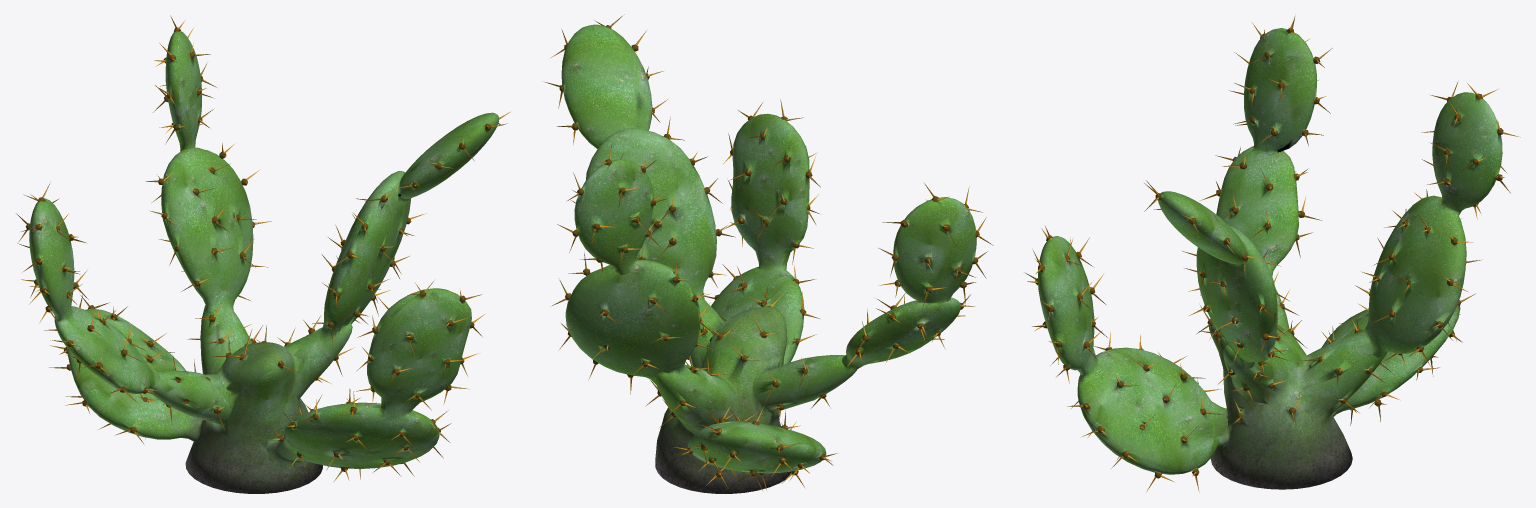
File: cactus_2_downloadable.glb
The picture shows the model from 3 angles, left to right: view 1: azimuth 30°, elevation 25°; view 2: azimuth 150°, elevation 25°; view 3: azimuth 270°, elevation 25°; orthographic projection. The views are drawn at different scales.
Parts seen in each view (by area): view 1: Cactus 2_0; view 2: Cactus 2_0; view 3: Cactus 2_0.
Part boxes in pixels (<box>): Cactus 2_0: <box>16,15,510,493</box>; Cactus 2_0: <box>545,14,993,493</box>; Cactus 2_0: <box>1024,16,1520,492</box>.
Bounding box in the file's own units: 6.3 × 4.96 × 5.75.
1 material, 1 textured.
